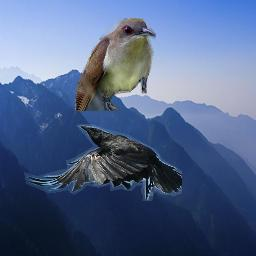Crow: (24, 124, 182, 201)
Cuckoo: (75, 18, 156, 111)
